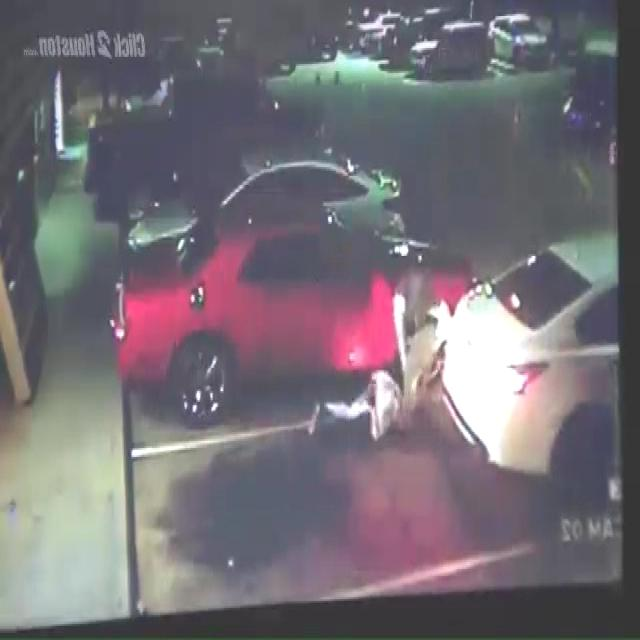fight: (279, 248, 455, 470)
